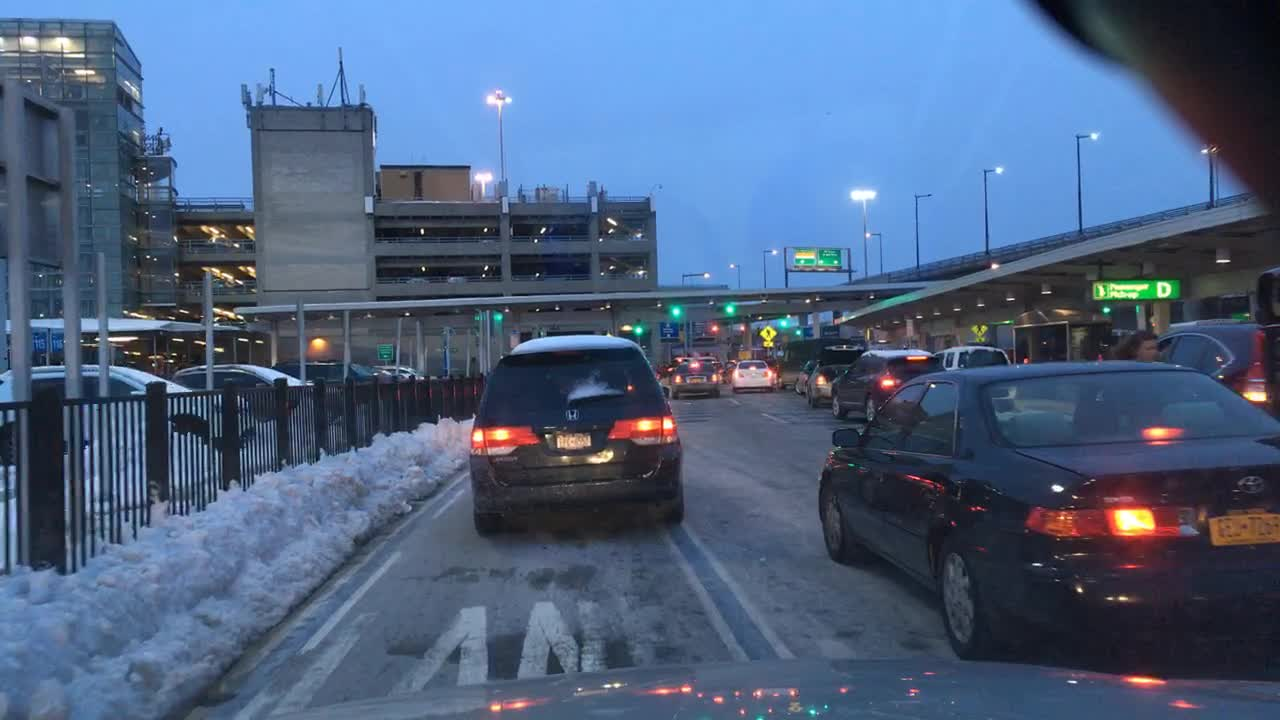car: (814, 359, 1278, 661), (468, 330, 687, 533), (0, 368, 254, 461), (1154, 320, 1274, 413), (169, 364, 341, 427), (830, 349, 945, 421), (269, 359, 402, 407), (934, 345, 1014, 375), (809, 366, 863, 405), (666, 360, 719, 398), (730, 361, 774, 389), (370, 364, 438, 382), (795, 359, 816, 392), (657, 366, 675, 388), (725, 360, 735, 387)
person: (1115, 332, 1161, 360)
traffic light: (490, 308, 506, 322), (716, 304, 735, 312), (632, 319, 640, 334), (662, 308, 682, 314), (1101, 301, 1108, 314), (776, 320, 788, 327)
traffic sign: (1092, 279, 1183, 301), (816, 248, 842, 265), (792, 248, 815, 267), (759, 324, 775, 347), (971, 323, 988, 343), (32, 333, 47, 355), (662, 322, 676, 342), (49, 333, 62, 353), (377, 343, 391, 359), (435, 345, 457, 353)
truck: (777, 337, 866, 389)
